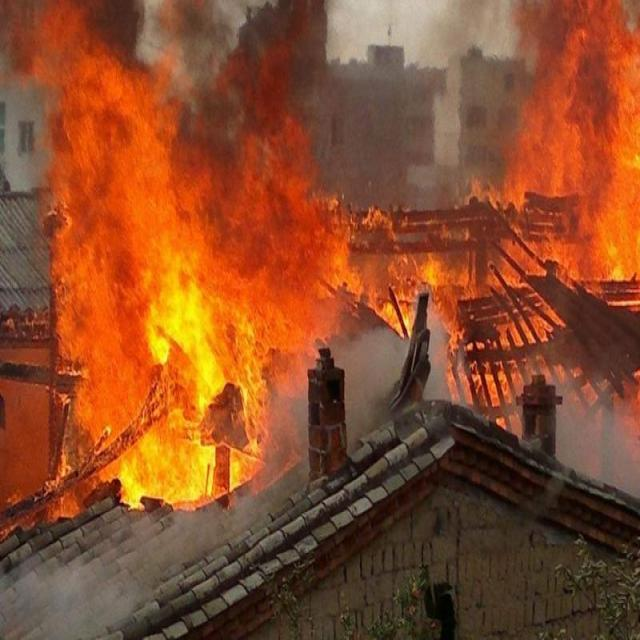Fire: (145, 273, 229, 393), (122, 434, 215, 502)
